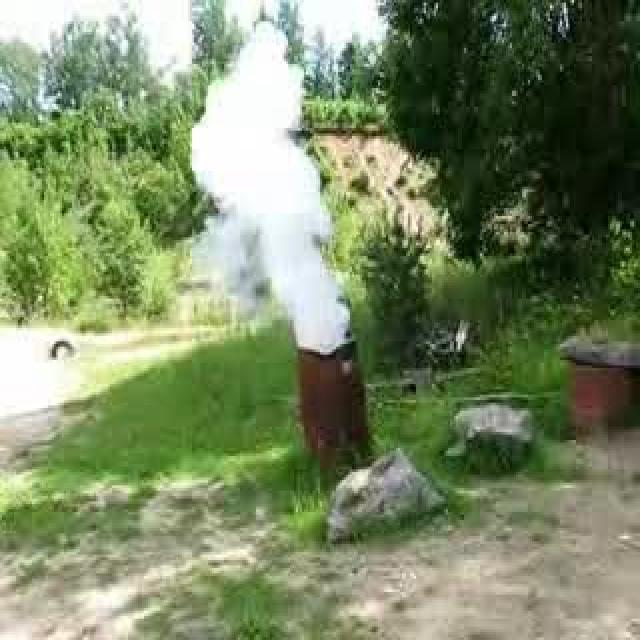Smoke: (188, 21, 354, 356)
